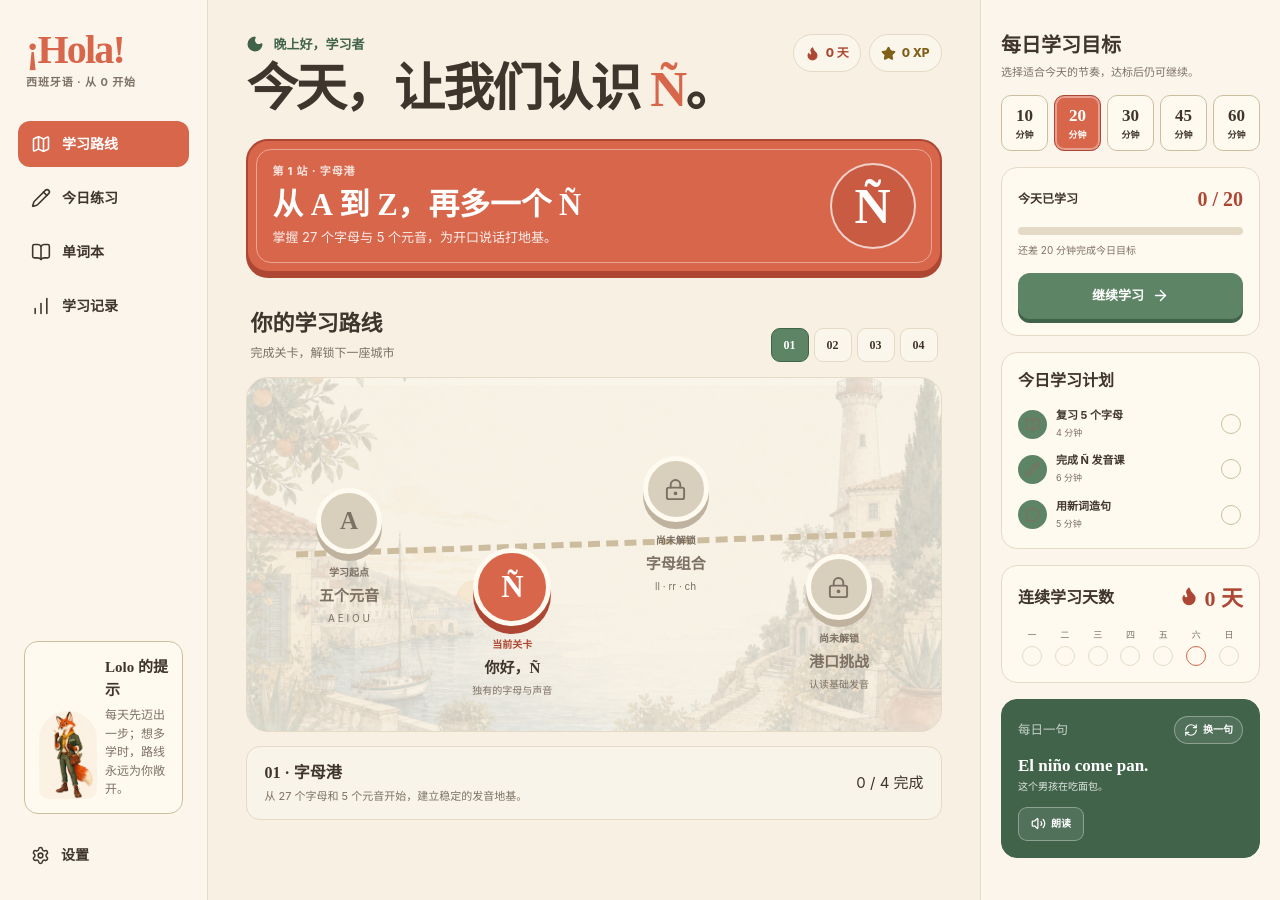
App lesson routing › opens the vocabulary book and data settings without placeholder screens
The width and height of the screenshot is (1280, 900).
Click the button "单词本": click(104, 252) 18,229 -> 189,275
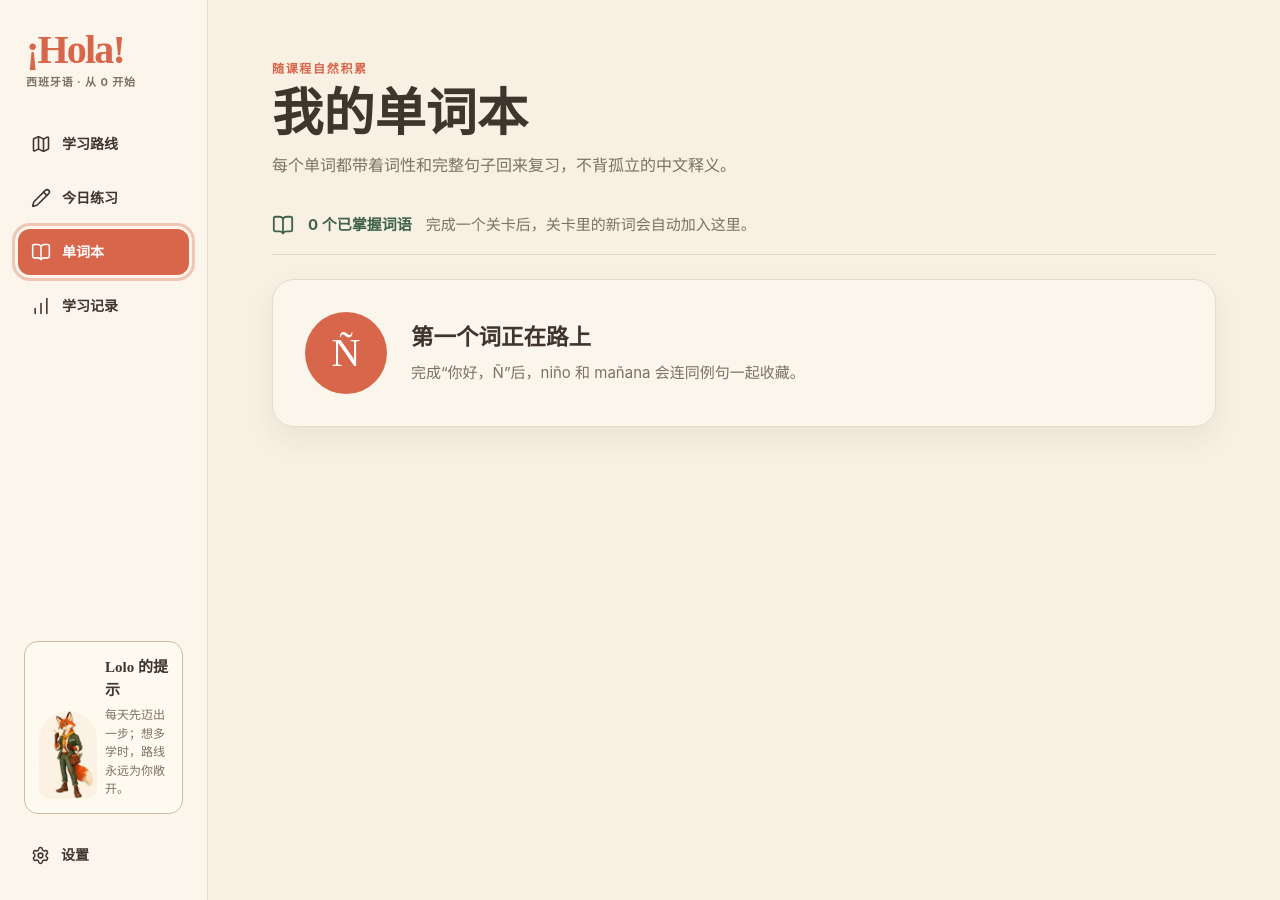
expect the heading "我的单词本" is shown: met, box 272,85 -> 528,142
Click the button "设置": click(104, 855) 18,832 -> 189,878
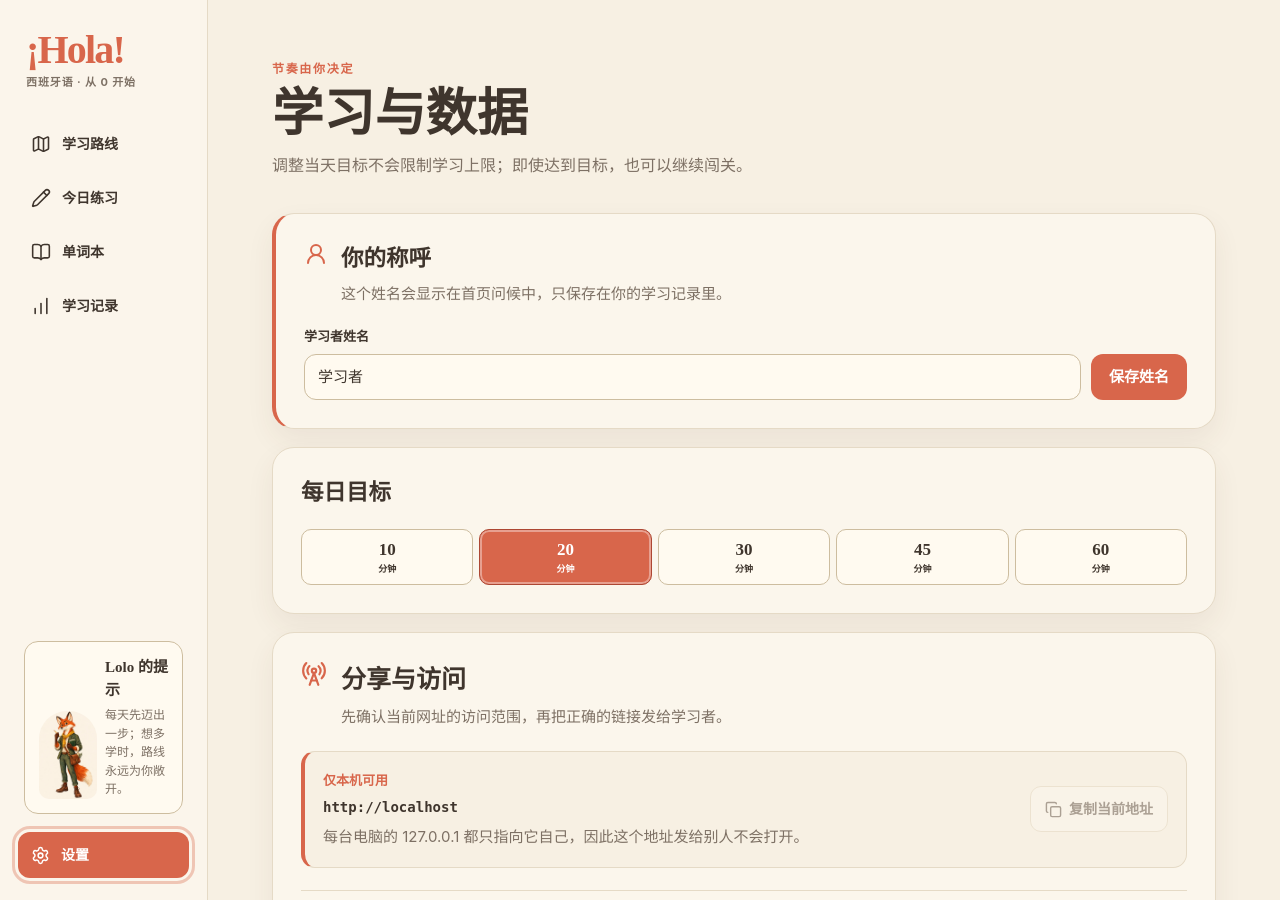
expect the heading "学习与数据" is shown: met, box 272,85 -> 528,142
